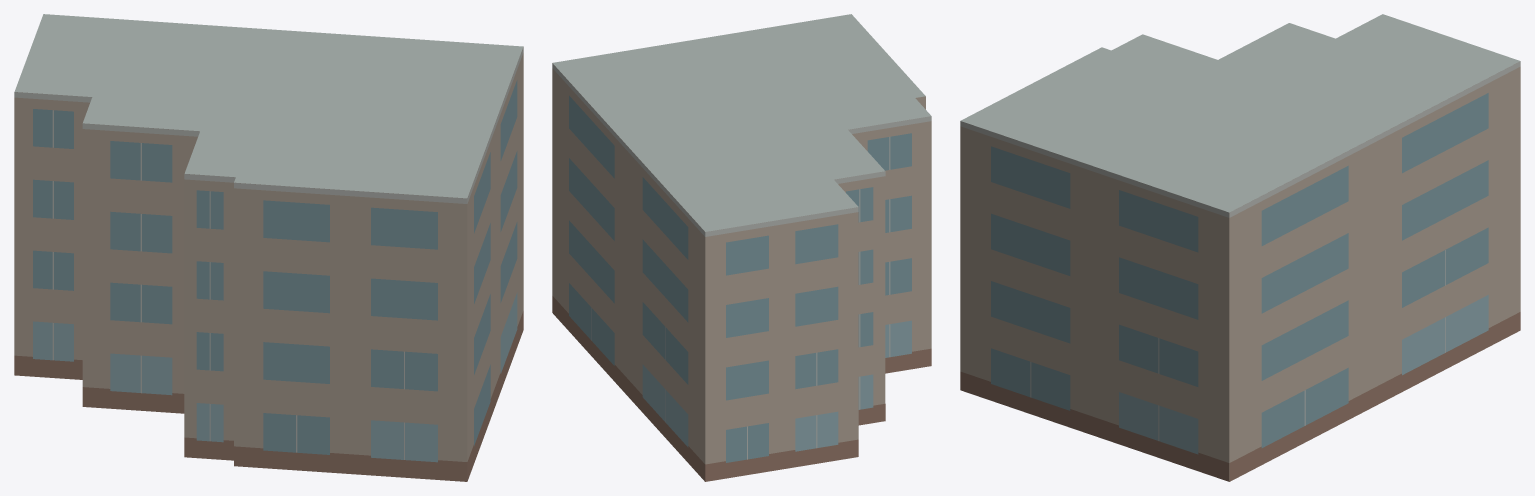
Rendered from survey-upis-32777062.glb.
3 renders of one model, left to right at view 1: azimuth 30°, elevation 25°; view 2: azimuth 150°, elevation 25°; view 3: azimuth 270°, elevation 25°, orthographic. The views are drawn at different scales.
Visible parts, largest first — view 1: survey-upis-32777062.tmp; view 2: survey-upis-32777062.tmp; view 3: survey-upis-32777062.tmp.
Part boxes in pixels (left/top/right/bottom): survey-upis-32777062.tmp: left=14, top=14, right=523, bottom=481; survey-upis-32777062.tmp: left=552, top=14, right=931, bottom=481; survey-upis-32777062.tmp: left=960, top=14, right=1520, bottom=481.
Bounding box in the file's own units: 19.3 × 12.2 × 23.01.
